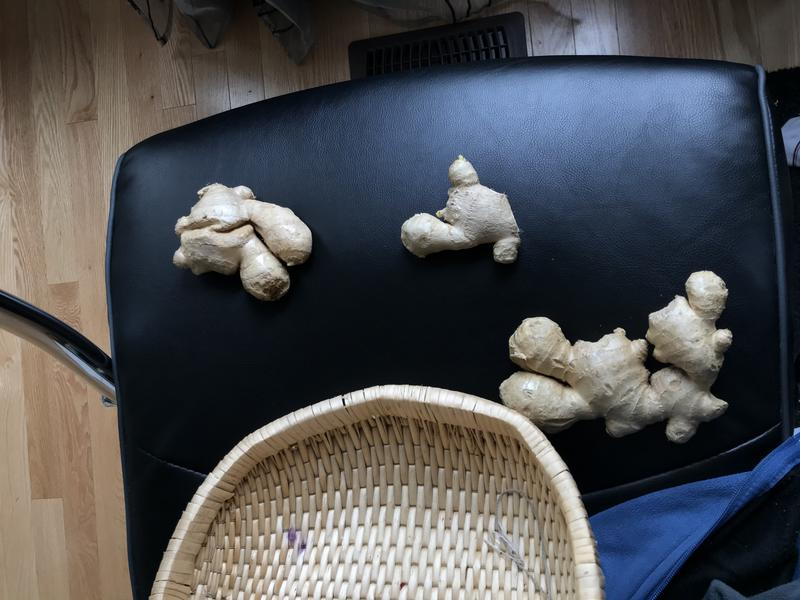ginger: (499, 268, 737, 461), (164, 177, 323, 310), (394, 146, 534, 270)
